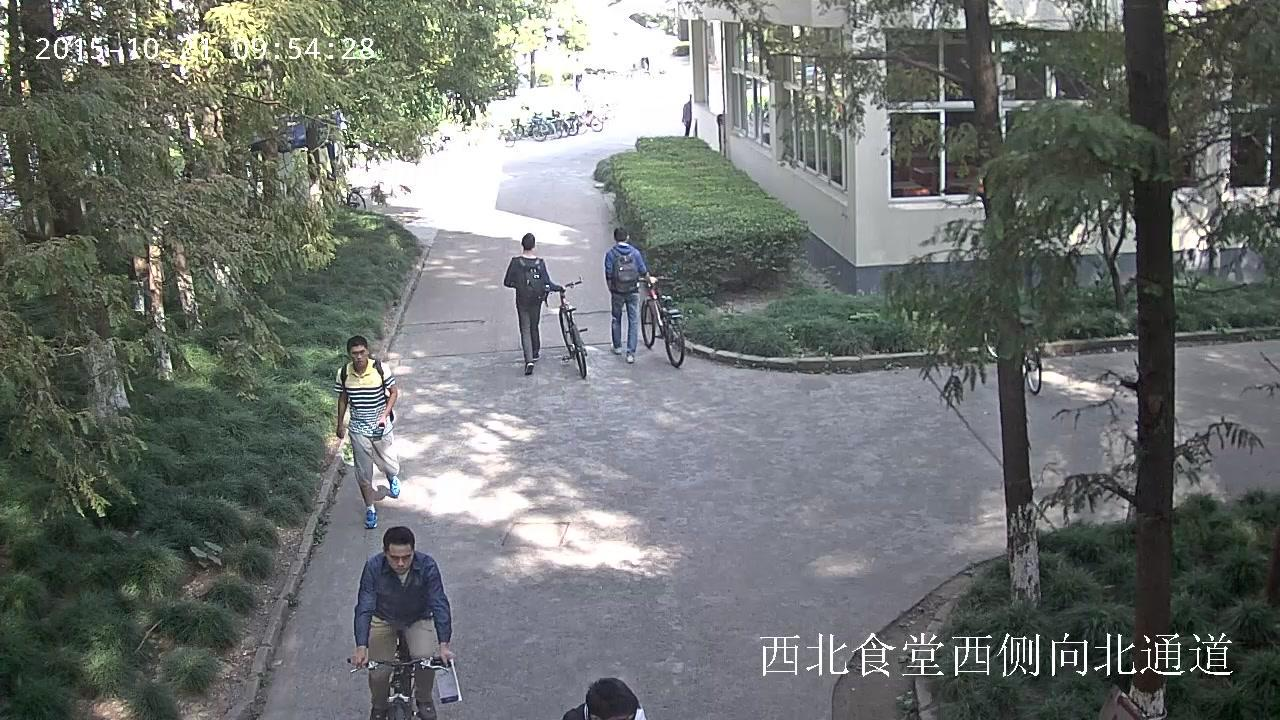face: (386, 544, 413, 573), (349, 345, 367, 366)
